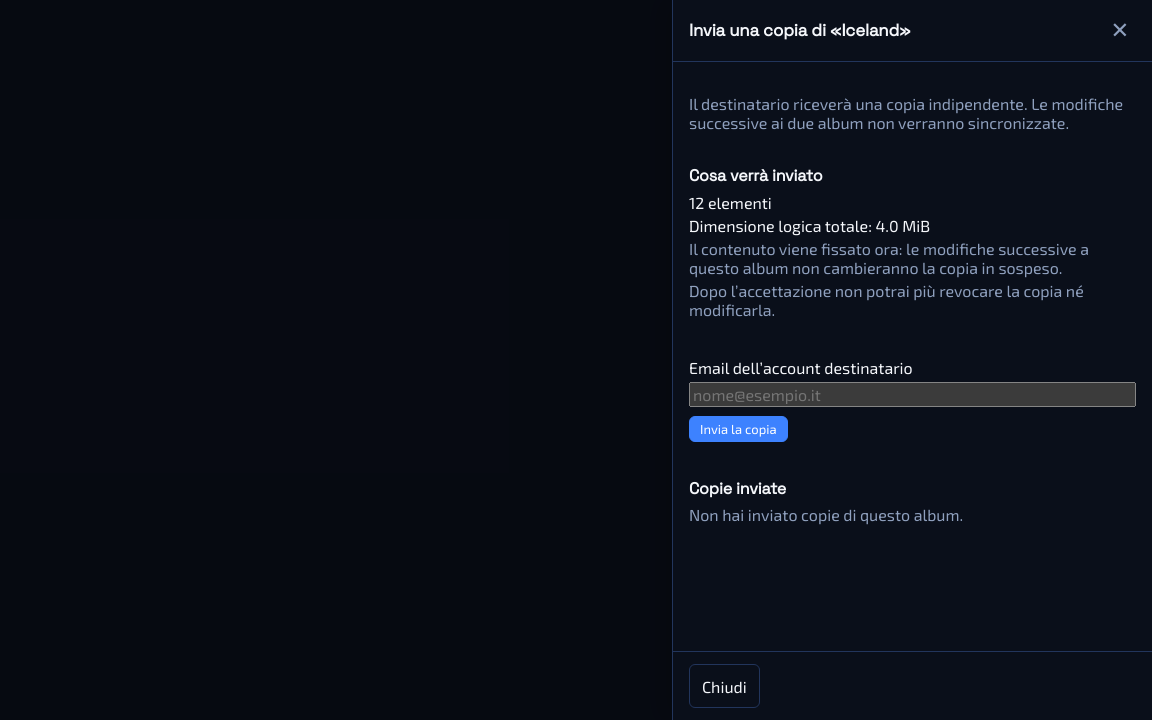
Scenario: sender panel › sends the copy and reports who received it
Check: the button with test id "album-copy-send" is shown, box [689,416,788,442]
Type "bob@example.com" into the field with test id "album-copy-email" at coordinates (912, 394), box [689,382,1136,407]
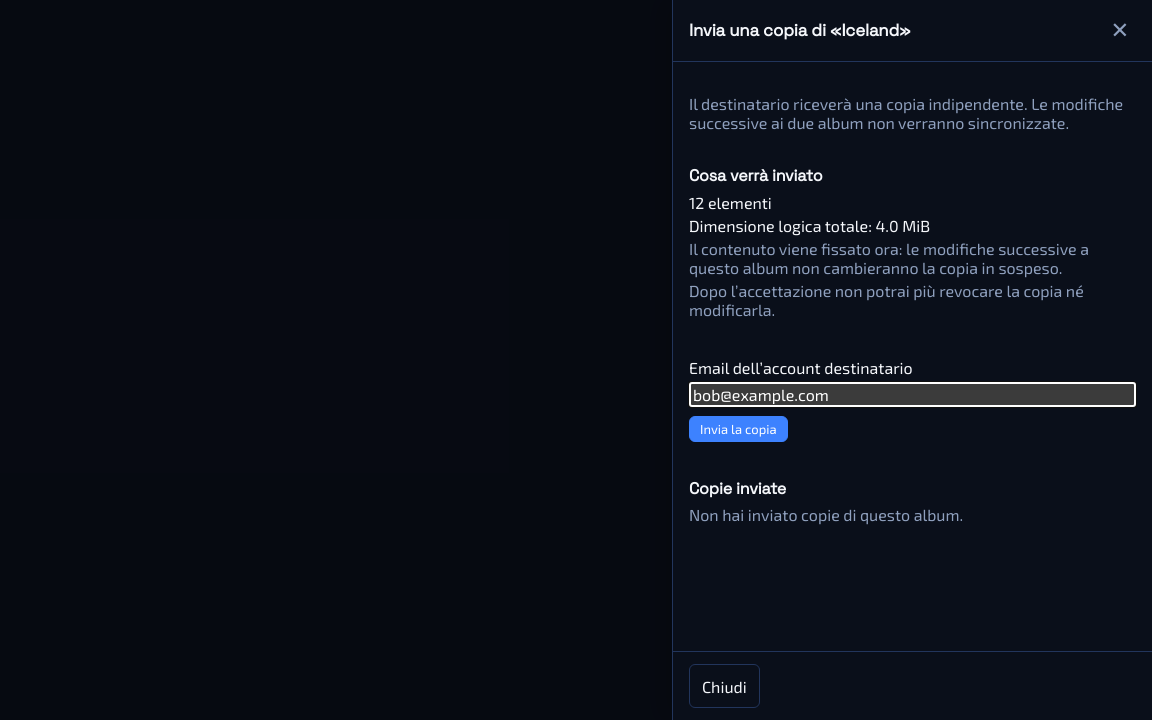
Click the button with test id "album-copy-send" at coordinates (738, 429), box [689,416,788,442]
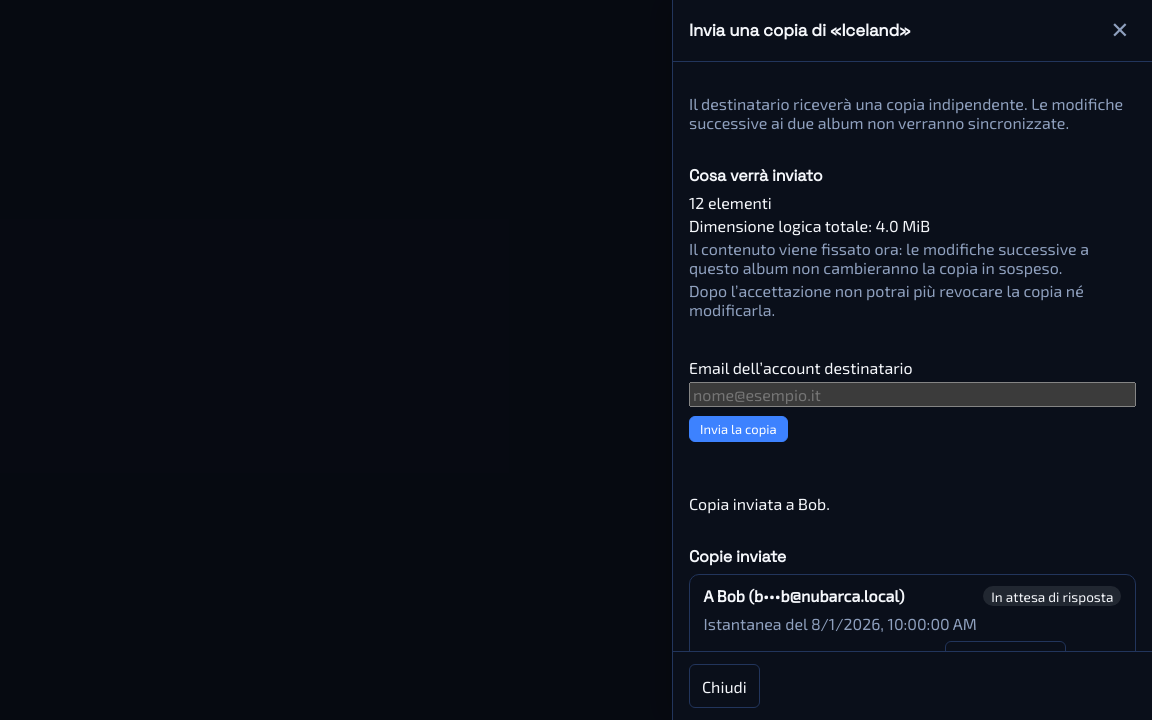
Check: the message with test id "album-copy-notice" shows "Bob", box [689,494,830,512]
